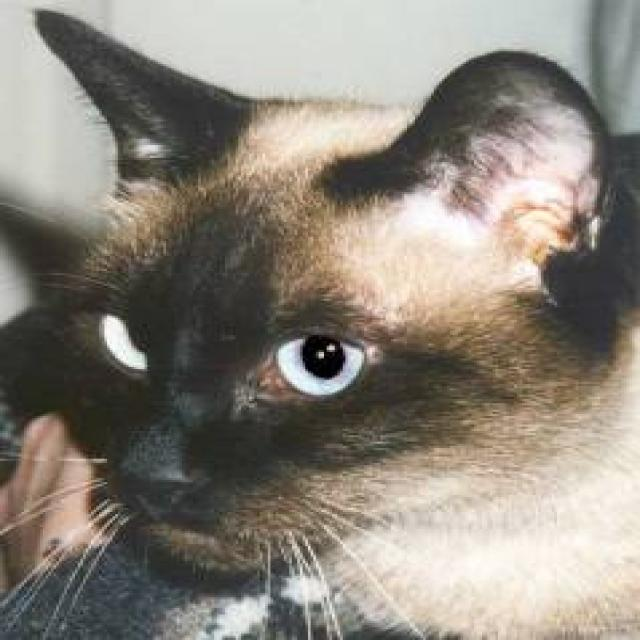Siamese: (0, 6, 615, 582)
